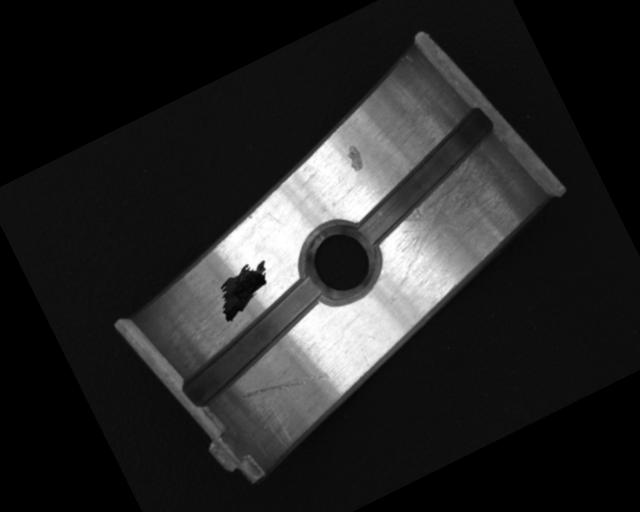blot: (207, 255, 284, 325)
bruise: (342, 142, 367, 173)
gap: (332, 104, 518, 251), (161, 272, 344, 411)
hole: (290, 209, 394, 313)
nick: (240, 355, 330, 417)
scratch: (361, 137, 538, 285)
